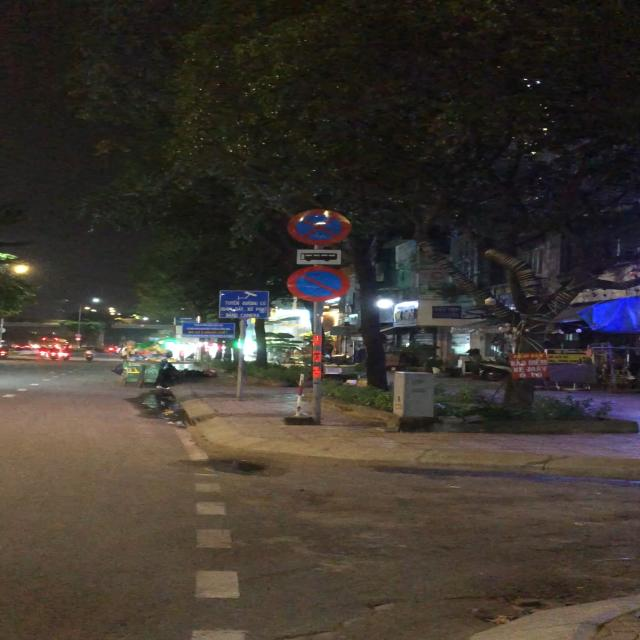Bien bao cam do xe: (286, 264, 356, 302)
Bien bao cam dung xe va do xe: (284, 209, 355, 247)
